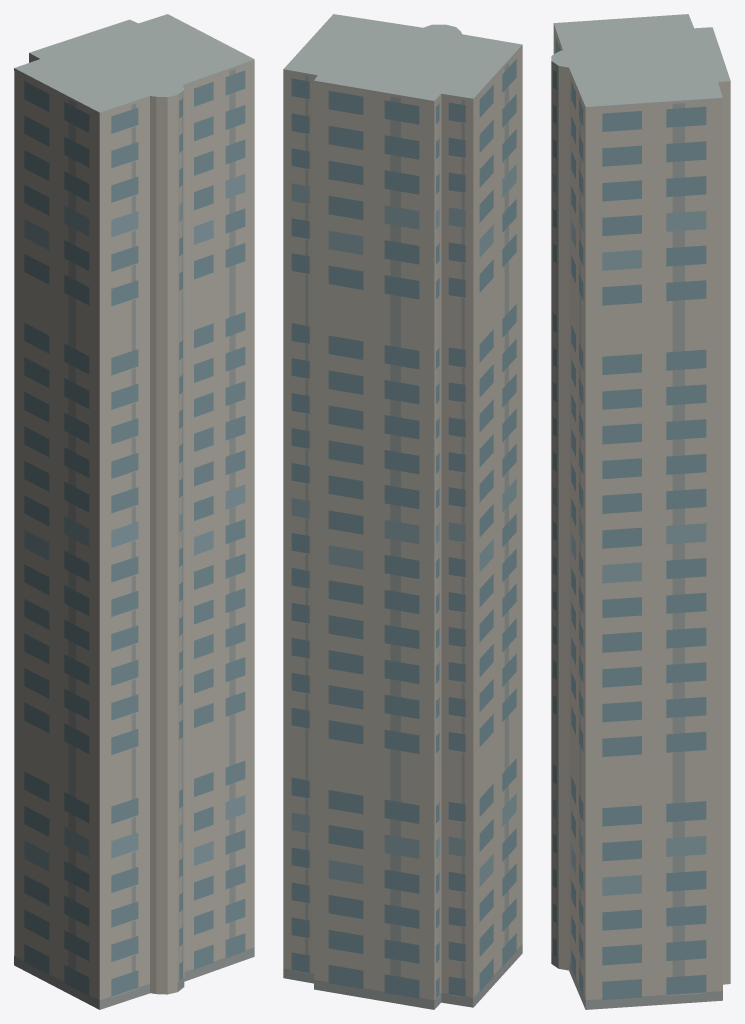
Rendered from survey-upis-32910340.glb.
The picture shows the model from 3 angles, left to right: view 1: azimuth 30°, elevation 25°; view 2: azimuth 150°, elevation 25°; view 3: azimuth 270°, elevation 25°; orthographic projection.
Visible parts, largest first — view 1: survey-upis-32910340.tmp; view 2: survey-upis-32910340.tmp; view 3: survey-upis-32910340.tmp.
Part boxes in pixels (x1,y1,x2,y2): survey-upis-32910340.tmp: (14,14,254,1009); survey-upis-32910340.tmp: (283,14,522,1009); survey-upis-32910340.tmp: (551,14,730,1009).
Size of the model in its own units: 17.53 by 79.3 by 14.3.
